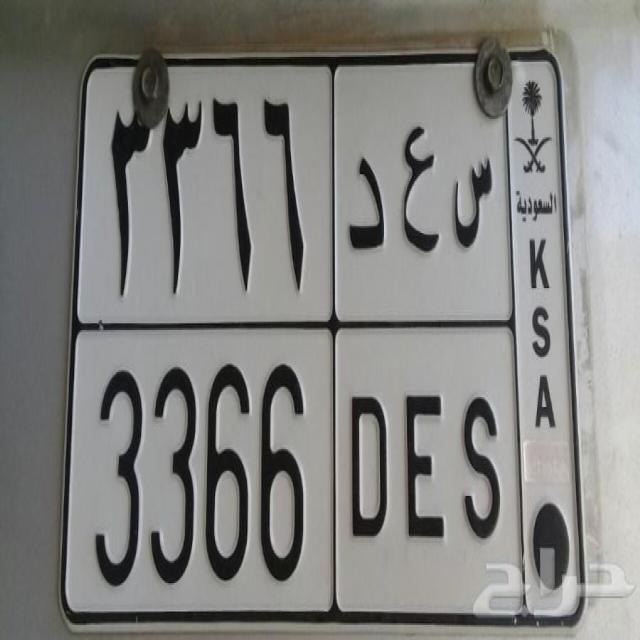license_plate: (66, 317, 528, 626)
